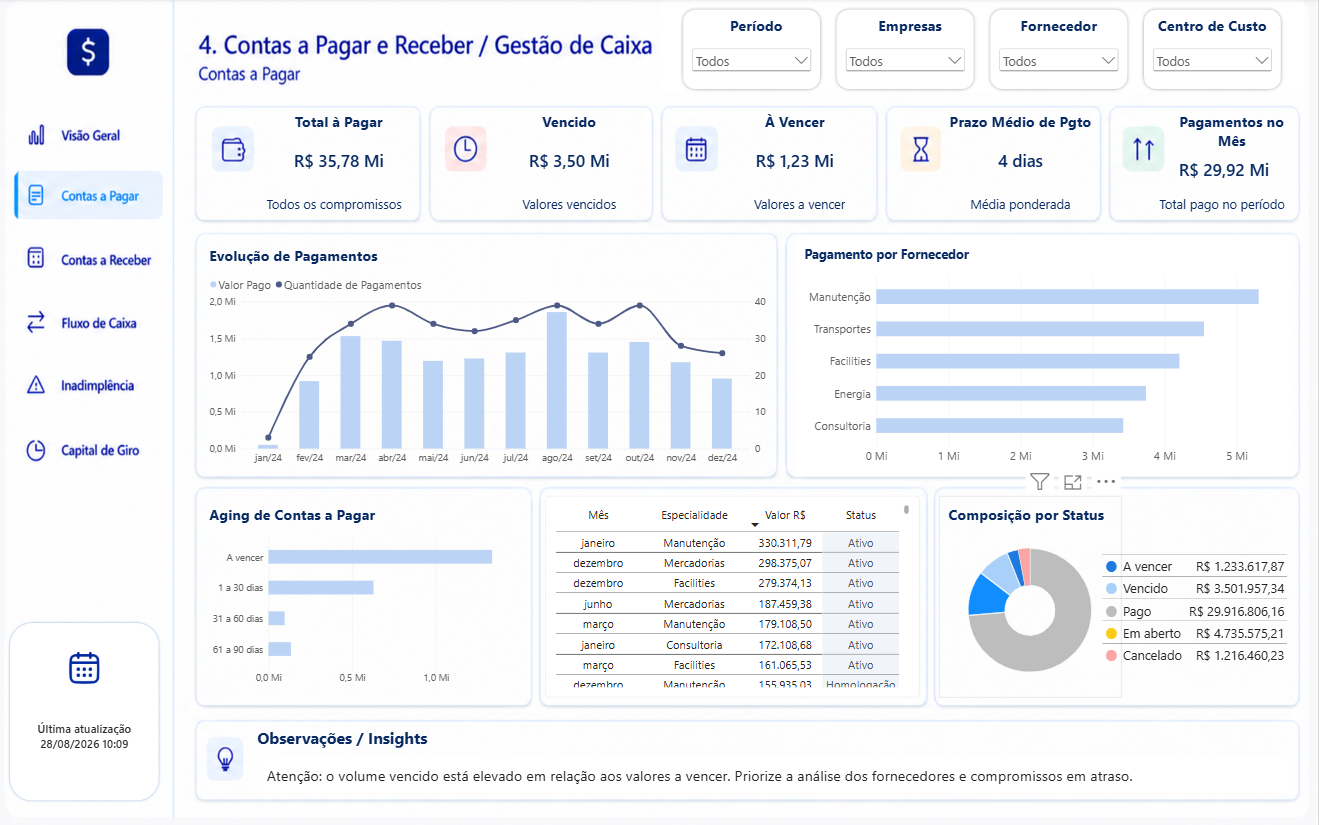

Layout of this report page (visuals, bound fields, positions):
{"tool":"powerbi","page":{"name":"Contas à Pagar","canvas":[2200,1400],"ordinal":1},"visuals":[{"type":"actionButton","box":[16,160,240,64],"z":0},{"type":"actionButton","box":[32,208,240,80],"z":1000},{"type":"actionButton","box":[16,160,240,64],"z":2000},{"type":"actionButton","box":[32,416,240,80],"z":3000},{"type":"actionButton","box":[32,528,240,80],"z":4000},{"type":"actionButton","box":[32,624,240,80],"z":5000},{"type":"cardVisual","title":"Total à Pagar","fields":{"Data":["Medidas Contas à Pagar.Texto CP Total a Pagar"]},"box":[432,208,272,112],"z":6000},{"type":"cardVisual","title":"Vencido","fields":{"Data":["Medidas Contas à Pagar.Texto CP Vencido"]},"box":[816,208,272,112],"z":7000},{"type":"cardVisual","title":"À Vencer","fields":{"Data":["Medidas Contas à Pagar.Texto CP A Vencer"]},"box":[1200,208,256,112],"z":8000},{"type":"cardVisual","title":"Prazo Médio de Pgto","fields":{"Data":["Medidas Contas à Pagar.CP Prazo Médio Pgto"]},"box":[1584,208,240,112],"z":9000},{"type":"cardVisual","title":"Pagamentos no Mês","fields":{"Data":["Medidas Contas à Pagar.Texto CP Pagamentos no Mês"]},"box":[1952,208,208,112],"z":10000},{"type":"cardVisual","title":"Total à Pagar","fields":{"Data":["Medidas Contas à Pagar.Subtexto CP Total a Pagar"]},"box":[416,336,288,48],"z":11000},{"type":"cardVisual","title":"Total à Pagar","fields":{"Data":["Medidas Contas à Pagar.Subtexto CP Vencido"]},"box":[816,336,272,48],"z":12000},{"type":"cardVisual","title":"Total à Pagar","fields":{"Data":["Medidas Contas à Pagar.Subtexto CP A Vencer"]},"box":[1200,336,272,48],"z":13000},{"type":"cardVisual","title":"Total à Pagar","fields":{"Data":["Medidas Contas à Pagar.Subtexto CP Prazo Médio Pgto"]},"box":[1568,336,272,48],"z":14000},{"type":"cardVisual","title":"Total à Pagar","fields":{"Data":["Medidas Contas à Pagar.Subtexto Total pago no período"]},"box":[1904,336,272,48],"z":15000},{"type":"lineClusteredColumnComboChart","title":"Evolução de Pagamentos","fields":{"Category":["dCalendario.Mes_Ano_Eixo"],"Y":["Medidas Contas à Pagar.CP Valor Pago"],"Y2":["Medidas Contas à Pagar.CP Quantidade de Pagamentos"]},"box":[336,416,960,400],"z":16000},{"type":"clusteredBarChart","title":"Pagamento por Fornecedor","fields":{"Y":["Medidas Contas à Pagar.CP Valor Pago 2"],"Category":["dFornecedores.Especialidade"]},"box":[1328,416,832,400],"z":17000},{"type":"clusteredBarChart","title":"Aging de Contas a Pagar","fields":{"Category":["dFaixaAgingVG.Faixa"],"Y":["Medidas Contas à Pagar.Valor Aging de Contas a Pagar"]},"box":[336,848,544,336],"z":18000},{"type":"tableEx","fields":{"Values":["fContasPagar.Data_Vencimento.Variation.Hierarquia de datas.Mês","dFornecedores.Especialidade","Medidas Contas à Pagar.Valor Total dos Títulos a Pagar 2","dFornecedores.Status"]},"box":[912,848,624,336],"z":19000},{"type":"shape","box":[16,1056,256,304],"z":20000},{"type":"donutChart","title":"Composição por Status","fields":{"Category":["dStatusComposicaoCP.Status"],"Y":["Medidas Contas à Pagar.Valor Status Composição CP"]},"box":[1568,848,304,336],"z":21000},{"type":"tableEx","fields":{"Values":["Medidas Contas à Pagar.Bolinha Status CP","dStatusComposicaoCP.Status","Medidas Contas à Pagar.Valor Status Composição CP"]},"box":[1824,896,352,256],"z":22000},{"type":"cardVisual","title":"Observações / Insights","fields":{"Data":["Medidas Contas à Pagar.Insight Contas a Pagar"]},"box":[432,1232,1728,112],"z":23000},{"type":"cardVisual","fields":{"Data":["Medidas Contas à Pagar.Texto CP Última Atualização"]},"box":[32,1152,224,192],"z":24000},{"type":"image","box":[96,1104,96,64],"z":25000},{"type":"shape","box":[1104,16,1072,160],"z":26000},{"type":"shape","box":[1136,32,240,144],"z":27000},{"type":"shape","box":[1392,32,240,144],"z":28000},{"type":"shape","box":[1648,32,240,144],"z":29000},{"type":"shape","box":[1904,32,240,144],"z":30000},{"type":"slicer","fields":{"Values":["dCalendario.Mes_Ano_Eixo"]},"box":[1152,96,208,64],"z":31000},{"type":"slicer","fields":{"Values":["dEmpresas.Empresa"]},"box":[1408,96,208,64],"z":32000},{"type":"slicer","fields":{"Values":["dFornecedores.Especialidade"]},"box":[1664,96,208,64],"z":33000},{"type":"slicer","fields":{"Values":["dCentrosCusto.Centro_Custo"]},"box":[1920,96,208,64],"z":34000},{"type":"textbox","box":[1200,48,128,48],"z":35000},{"type":"textbox","box":[1696,48,144,48],"z":36000},{"type":"textbox","box":[1456,48,128,48],"z":37000},{"type":"textbox","box":[1920,48,208,48],"z":38000}]}

Visuals, with their boxes on the page's 2200x1400 design canvas (x1, y1, x2, y2). These are canvas units, not pixel positions in the 1319x825 screenshot, which may show the page scaled, cropped or inside an application window:
actionButton: rect(16, 160, 256, 224)
actionButton: rect(32, 208, 272, 288)
actionButton: rect(16, 160, 256, 224)
actionButton: rect(32, 416, 272, 496)
actionButton: rect(32, 528, 272, 608)
actionButton: rect(32, 624, 272, 704)
"Total à Pagar" cardVisual: rect(432, 208, 704, 320)
"Vencido" cardVisual: rect(816, 208, 1088, 320)
"À Vencer" cardVisual: rect(1200, 208, 1456, 320)
"Prazo Médio de Pgto" cardVisual: rect(1584, 208, 1824, 320)
"Pagamentos no Mês" cardVisual: rect(1952, 208, 2160, 320)
"Total à Pagar" cardVisual: rect(416, 336, 704, 384)
"Total à Pagar" cardVisual: rect(816, 336, 1088, 384)
"Total à Pagar" cardVisual: rect(1200, 336, 1472, 384)
"Total à Pagar" cardVisual: rect(1568, 336, 1840, 384)
"Total à Pagar" cardVisual: rect(1904, 336, 2176, 384)
"Evolução de Pagamentos" lineClusteredColumnComboChart: rect(336, 416, 1296, 816)
"Pagamento por Fornecedor" clusteredBarChart: rect(1328, 416, 2160, 816)
"Aging de Contas a Pagar" clusteredBarChart: rect(336, 848, 880, 1184)
tableEx - fContasPagar.Data_Vencimento.Variation.Hierarquia de datas.Mês x dFornecedores.Especialidade: rect(912, 848, 1536, 1184)
shape: rect(16, 1056, 272, 1360)
"Composição por Status" donutChart: rect(1568, 848, 1872, 1184)
tableEx - Medidas Contas à Pagar.Bolinha Status CP x dStatusComposicaoCP.Status: rect(1824, 896, 2176, 1152)
"Observações / Insights" cardVisual: rect(432, 1232, 2160, 1344)
cardVisual - Medidas Contas à Pagar.Texto CP Última Atualização: rect(32, 1152, 256, 1344)
image: rect(96, 1104, 192, 1168)
shape: rect(1104, 16, 2176, 176)
shape: rect(1136, 32, 1376, 176)
shape: rect(1392, 32, 1632, 176)
shape: rect(1648, 32, 1888, 176)
shape: rect(1904, 32, 2144, 176)
slicer - dCalendario.Mes_Ano_Eixo: rect(1152, 96, 1360, 160)
slicer - dEmpresas.Empresa: rect(1408, 96, 1616, 160)
slicer - dFornecedores.Especialidade: rect(1664, 96, 1872, 160)
slicer - dCentrosCusto.Centro_Custo: rect(1920, 96, 2128, 160)
textbox: rect(1200, 48, 1328, 96)
textbox: rect(1696, 48, 1840, 96)
textbox: rect(1456, 48, 1584, 96)
textbox: rect(1920, 48, 2128, 96)
